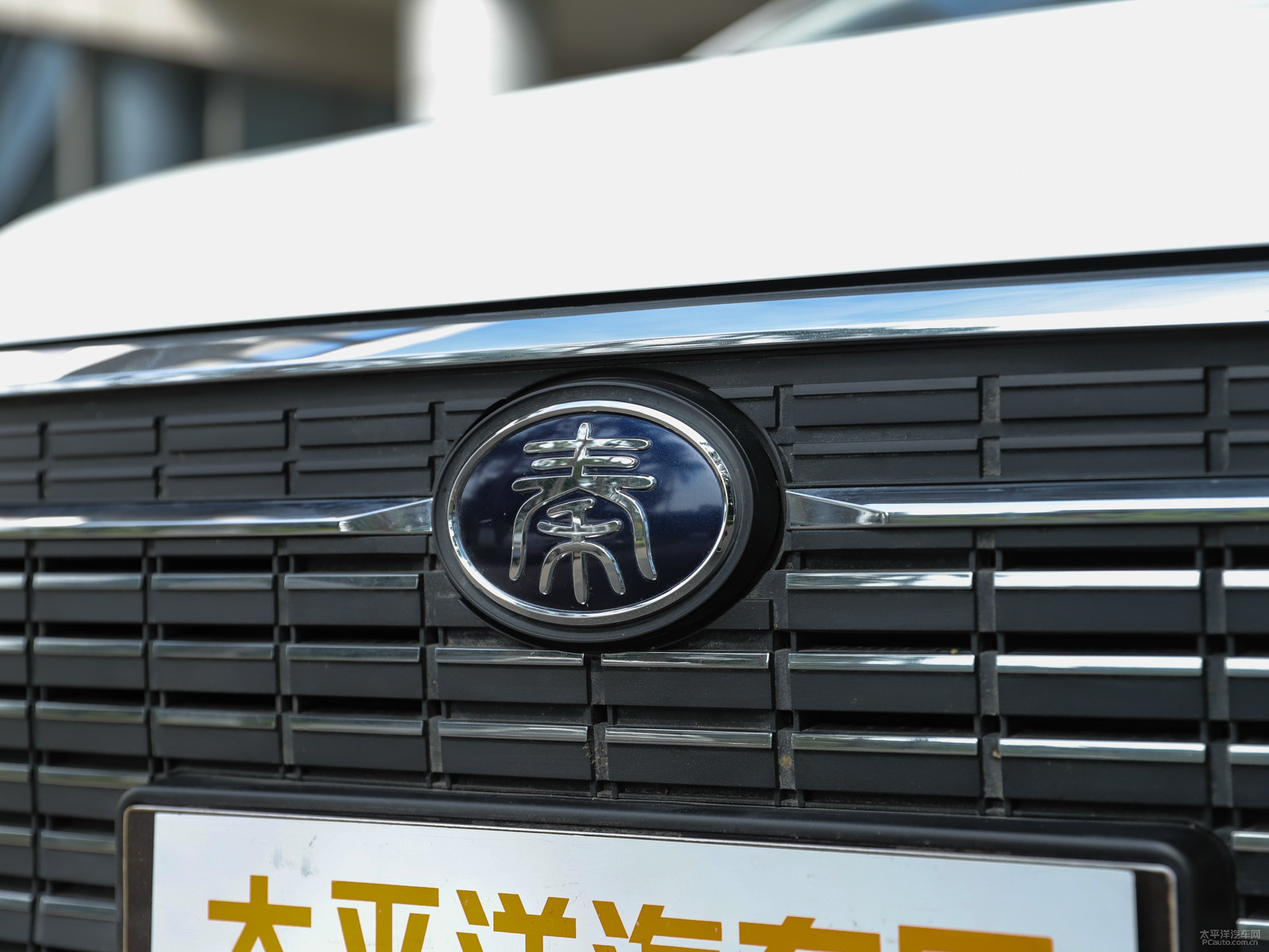BYD Qin: (448, 401, 734, 624)
